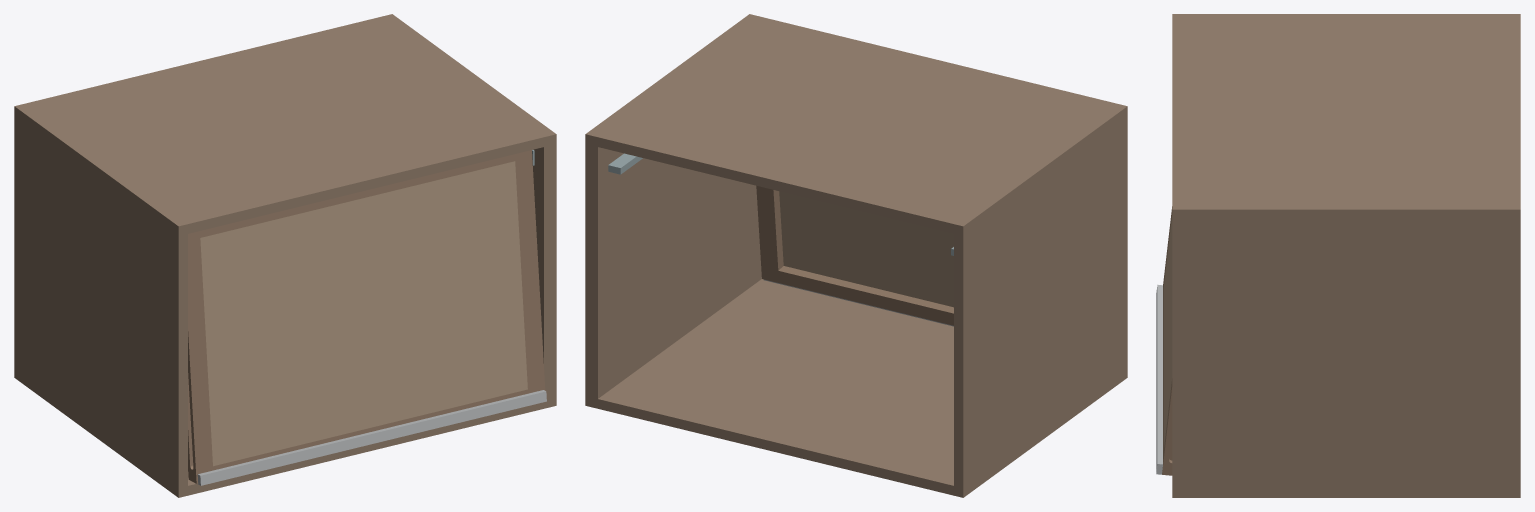
File: mechanism-closed.glb
3 renders of one model, left to right at view 1: azimuth 30°, elevation 25°; view 2: azimuth 150°, elevation 25°; view 3: azimuth 270°, elevation 25°, orthographic. The views are drawn at different scales.
Visible parts, largest first — view 1: Plywood-infill-6, Roof, Left-cheek, Stile-L, Right-cheek, Sill, Edge-pull, Stile-R, Top-rail, Bottom-rail; view 2: Roof, Sill, Left-cheek, Right-cheek, Plywood-infill-6, Bottom-rail, Stile-R; view 3: Right-cheek, Roof, Sill, Plywood-infill-6, Edge-pull, Stile-R.
Boxes of the visible parts, x1,y1,x2,y2 form: Plywood-infill-6: (200, 161, 527, 466); Roof: (14, 14, 556, 235); Left-cheek: (14, 116, 187, 487); Stile-L: (188, 231, 213, 483); Right-cheek: (533, 144, 556, 398); Sill: (14, 368, 556, 497); Edge-pull: (197, 390, 546, 485); Stile-R: (515, 150, 545, 393); Top-rail: (200, 154, 514, 237); Bottom-rail: (213, 389, 527, 470); Roof: (585, 14, 1127, 235); Sill: (585, 279, 1127, 497); Left-cheek: (954, 116, 1127, 487); Right-cheek: (585, 144, 761, 398); Plywood-infill-6: (779, 191, 953, 307); Bottom-rail: (778, 266, 953, 325); Stile-R: (756, 185, 783, 282); Right-cheek: (1172, 220, 1520, 487); Roof: (1172, 14, 1520, 219); Sill: (1172, 487, 1520, 497); Plywood-infill-6: (1163, 215, 1172, 449); Edge-pull: (1156, 284, 1169, 475); Stile-R: (1162, 378, 1172, 475).
Size of the model in its own units: 0.485 by 0.333 by 0.3817.
